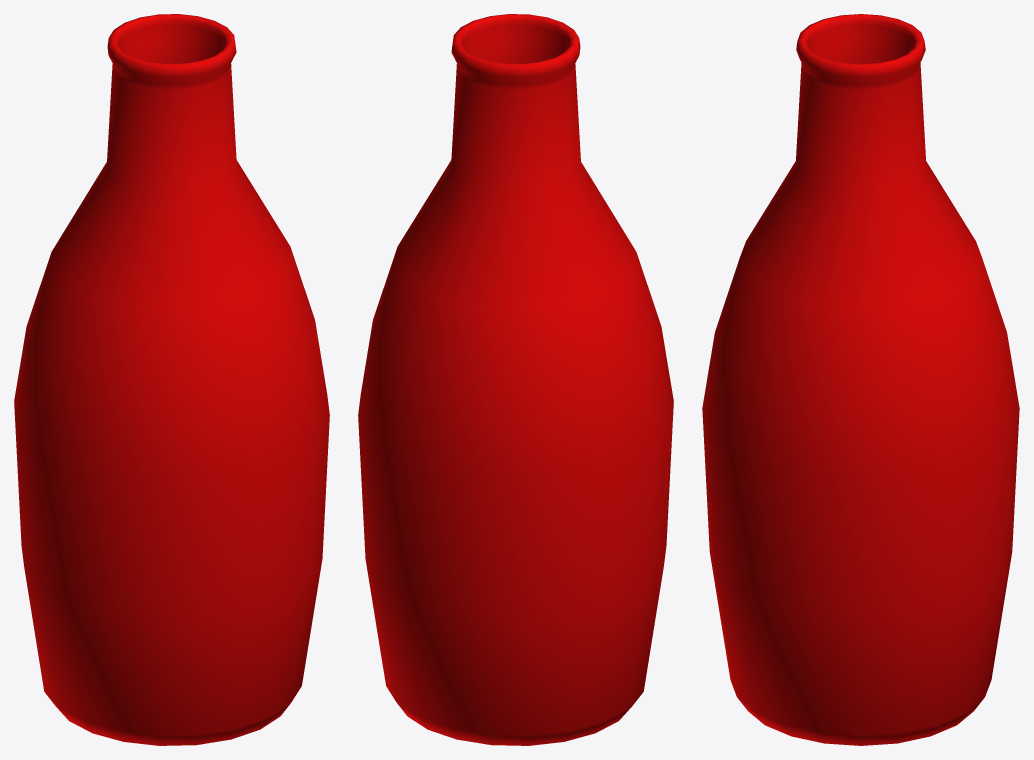
The model's file is bottle_shards_grp.fbx.
3 renders of one model, left to right at view 1: azimuth 30°, elevation 25°; view 2: azimuth 150°, elevation 25°; view 3: azimuth 270°, elevation 25°, orthographic.
Visible parts, largest first — view 1: bottle_1_shard_16, bottle_1_shard_13, bottle_1_shard_14, bottle_1_shard_10, bottle_1_shard_6, bottle_1_shard_9, bottle_1_shard_4, bottle_1_shard_12, bottle_1_shard_15, bottle_1_shard_5, bottle_1_shard_2; view 2: bottle_1_shard_16, bottle_1_shard_15, bottle_1_shard_11, bottle_1_shard_12, bottle_1_shard_7, bottle_1_shard_10, bottle_1_shard_9; view 3: bottle_1_shard_16, bottle_1_shard_15, bottle_1_shard_8, bottle_1_shard_14, bottle_1_shard_7, bottle_1_shard_13, bottle_1_shard_3, bottle_1_shard_5, bottle_1_shard_2, bottle_1_shard_11, bottle_1_shard_6, bottle_1_shard_4.
Part boxes in pixels (x1=…): bottle_1_shard_16: x1=26, y1=14, x2=292, y2=428; bottle_1_shard_13: x1=167, y1=349, x2=329, y2=576; bottle_1_shard_14: x1=58, y1=248, x2=328, y2=557; bottle_1_shard_10: x1=46, y1=464, x2=167, y2=660; bottle_1_shard_6: x1=162, y1=560, x2=297, y2=682; bottle_1_shard_9: x1=43, y1=655, x2=173, y2=745; bottle_1_shard_4: x1=169, y1=656, x2=295, y2=745; bottle_1_shard_12: x1=17, y1=459, x2=50, y2=682; bottle_1_shard_15: x1=14, y1=326, x2=65, y2=466; bottle_1_shard_5: x1=294, y1=538, x2=322, y2=648; bottle_1_shard_2: x1=288, y1=617, x2=312, y2=701; bottle_1_shard_16: x1=397, y1=14, x2=666, y2=402; bottle_1_shard_15: x1=358, y1=248, x2=667, y2=567; bottle_1_shard_11: x1=388, y1=548, x2=551, y2=745; bottle_1_shard_12: x1=533, y1=452, x2=660, y2=743; bottle_1_shard_7: x1=359, y1=446, x2=398, y2=671; bottle_1_shard_10: x1=635, y1=435, x2=671, y2=656; bottle_1_shard_9: x1=568, y1=629, x2=653, y2=740; bottle_1_shard_16: x1=728, y1=14, x2=987, y2=315; bottle_1_shard_15: x1=869, y1=274, x2=1019, y2=528; bottle_1_shard_8: x1=750, y1=442, x2=928, y2=640; bottle_1_shard_14: x1=715, y1=293, x2=896, y2=475; bottle_1_shard_7: x1=853, y1=485, x2=1003, y2=690; bottle_1_shard_13: x1=702, y1=330, x2=791, y2=565; bottle_1_shard_3: x1=815, y1=639, x2=964, y2=745; bottle_1_shard_5: x1=724, y1=563, x2=838, y2=657; bottle_1_shard_2: x1=746, y1=655, x2=835, y2=744; bottle_1_shard_11: x1=959, y1=501, x2=1014, y2=723; bottle_1_shard_6: x1=708, y1=520, x2=746, y2=661; bottle_1_shard_4: x1=722, y1=632, x2=750, y2=713.
Size of the model in its own units: 11.14 by 25.43 by 11.14.
